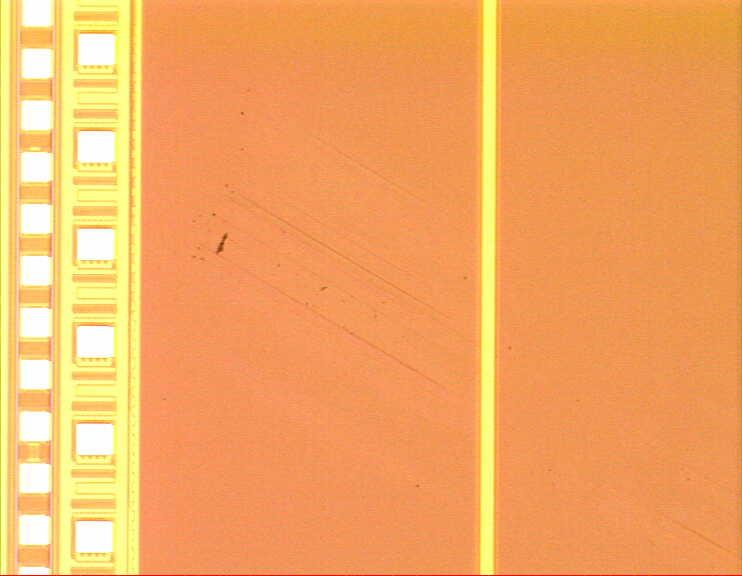SCRATCH: (189, 84, 742, 575)
